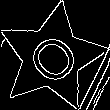O_SE: (19, 24, 85, 91)
